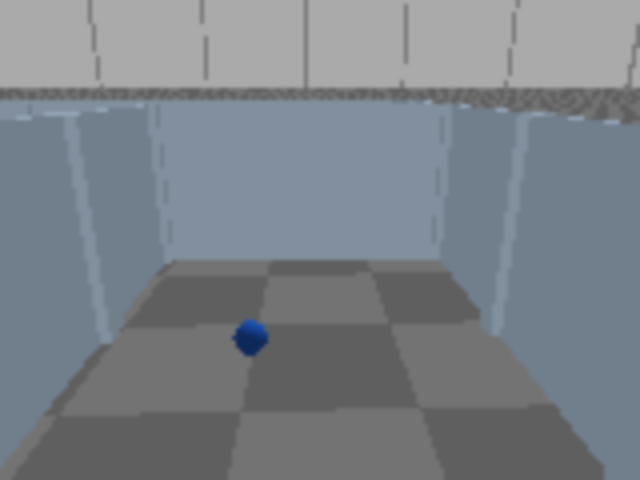puck: (226, 312, 275, 365)
